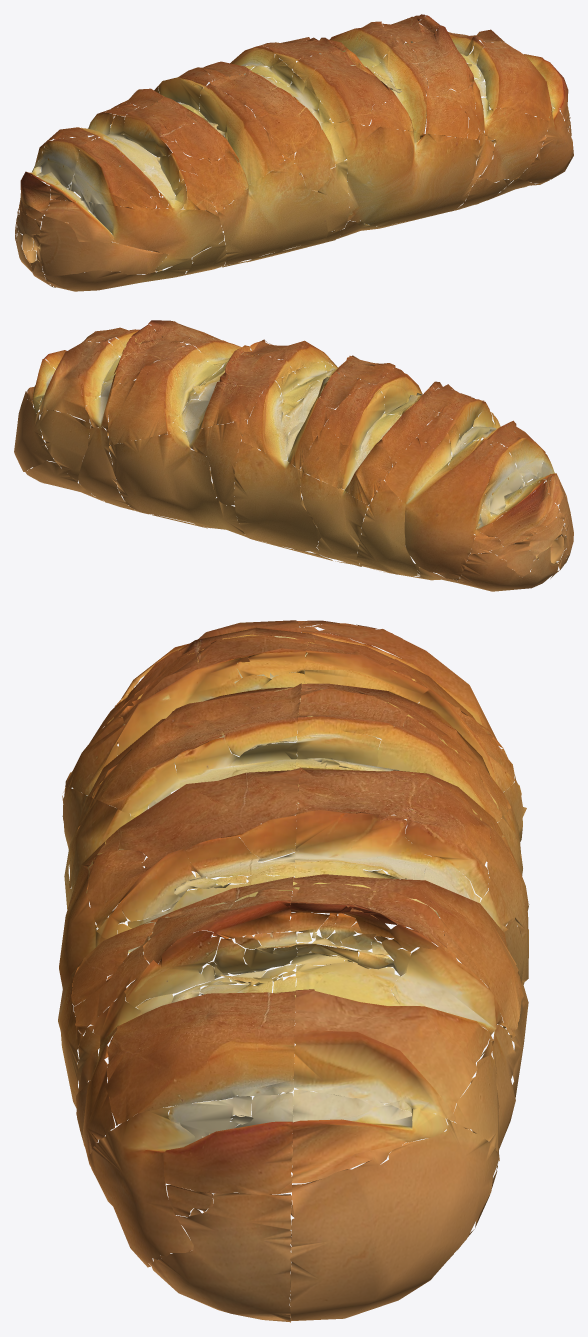
File: bread.glb
3 renders of one model, top to bottom at view 1: azimuth 30°, elevation 25°; view 2: azimuth 150°, elevation 25°; view 3: azimuth 270°, elevation 25°, orthographic. The views are drawn at different scales.
Parts seen in each view (by area): view 1: tripo_node_0e6e31bd-7318-483c-91df-c36474d0471f; view 2: tripo_node_0e6e31bd-7318-483c-91df-c36474d0471f; view 3: tripo_node_0e6e31bd-7318-483c-91df-c36474d0471f.
Boxes of the visible parts, <box> form: tripo_node_0e6e31bd-7318-483c-91df-c36474d0471f: <box>15,14,573,291</box>; tripo_node_0e6e31bd-7318-483c-91df-c36474d0471f: <box>14,320,573,591</box>; tripo_node_0e6e31bd-7318-483c-91df-c36474d0471f: <box>58,620,529,1322</box>.
Bounding box in the file's own units: 0.9847 × 0.2919 × 0.3792.
Materials: 1 (1 with a texture image).
